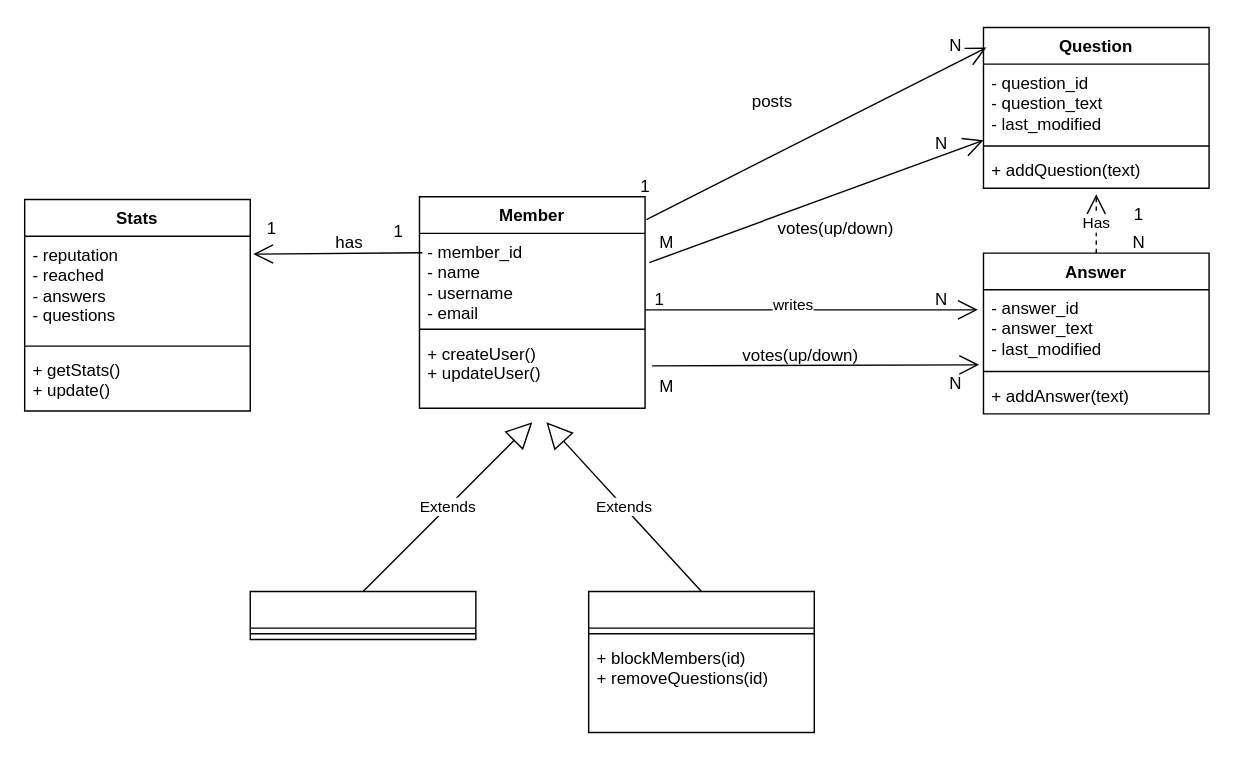
This 1234x760 diagram has some shape labels left out. The box of each missing label's shape, as (x1, y1, x2, y2) in pixels:
Moderator: (587, 590, 814, 732)
User: (249, 590, 476, 639)
